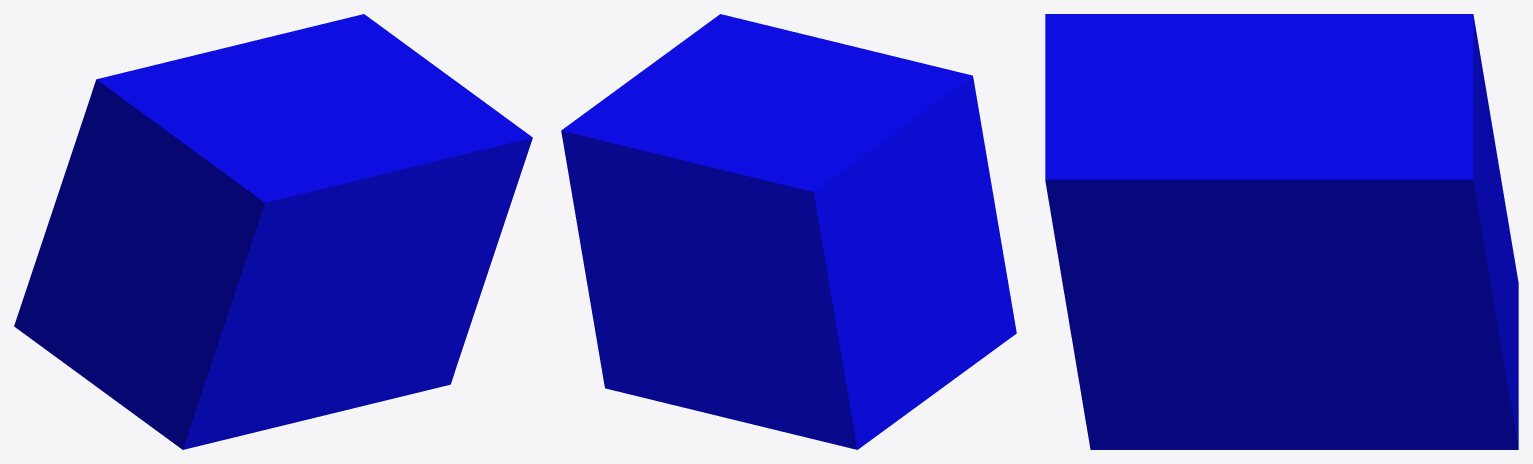
File: blueCube.dae
3 views of the same model, side by side, from view 1: azimuth 30°, elevation 25°; view 2: azimuth 150°, elevation 25°; view 3: azimuth 270°, elevation 25° (orthographic). The views are drawn at different scales.
Parts seen in each view (by area): view 1: SketchUp; view 2: SketchUp; view 3: SketchUp.
Boxes of the visible parts, bbox=[...] form: SketchUp: bbox=[14, 14, 532, 449]; SketchUp: bbox=[561, 14, 1016, 449]; SketchUp: bbox=[1045, 14, 1518, 449].
Size of the model in its own units: 165 by 160 by 116.
